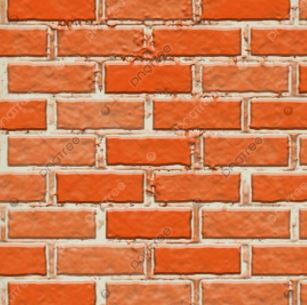brick: (54, 22, 147, 59), (55, 96, 146, 131), (151, 25, 244, 59), (6, 60, 98, 94), (55, 170, 147, 204), (54, 242, 148, 275), (101, 62, 197, 94), (201, 134, 291, 168), (105, 133, 194, 167), (150, 98, 244, 130), (198, 208, 292, 240), (7, 206, 96, 239), (6, 133, 97, 165), (152, 171, 242, 203), (201, 63, 292, 94), (105, 208, 194, 239), (155, 244, 243, 273), (7, 279, 98, 305), (200, 281, 291, 305), (104, 280, 192, 304), (249, 97, 307, 129), (249, 172, 307, 204), (7, 1, 95, 22), (251, 25, 307, 57), (1, 240, 50, 276), (105, 1, 193, 21), (201, 1, 291, 20), (252, 243, 307, 274), (1, 25, 51, 59), (1, 96, 48, 130), (1, 170, 48, 199)
